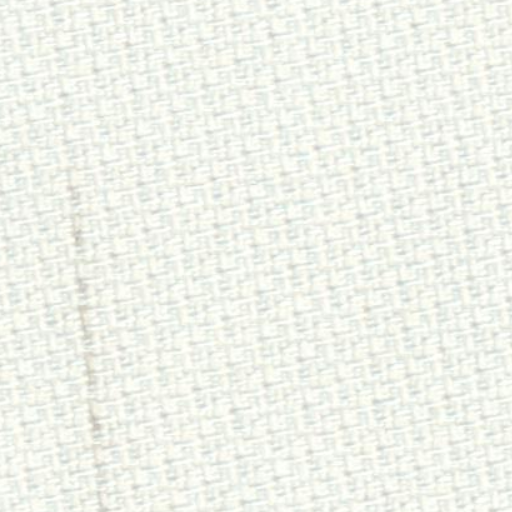WuZi: (62, 118, 112, 506)
